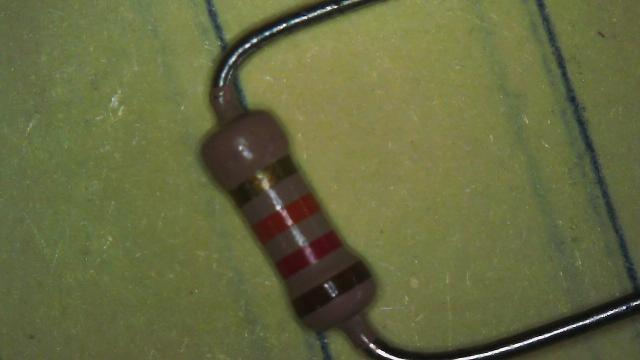brown: (292, 261, 370, 316)
gold: (231, 156, 296, 205)
orange: (252, 192, 320, 243)
red: (276, 231, 342, 278)
resistor: (179, 78, 412, 356)
